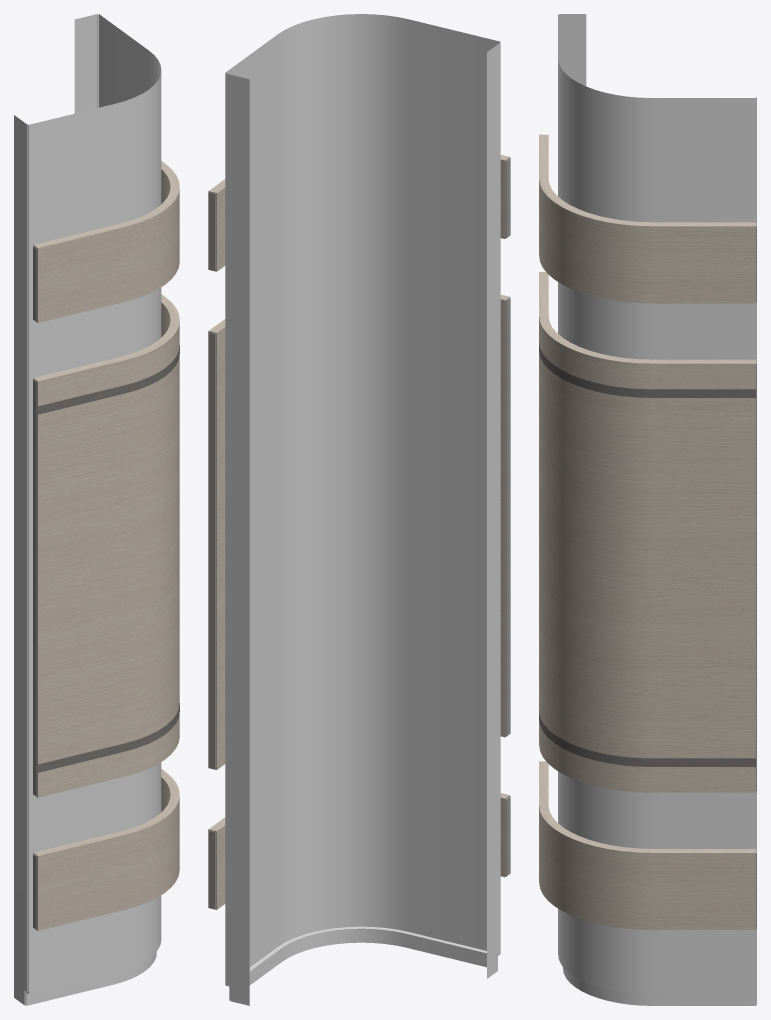
The model's file is MMo_W_001_c_2x2x10.fbx.
3 views of the same model, side by side, from view 1: azimuth 30°, elevation 25°; view 2: azimuth 150°, elevation 25°; view 3: azimuth 270°, elevation 25° (orthographic). The views are drawn at different scales.
Parts seen in each view (by area): view 1: MMo_W_001_c_2x2x10; view 2: MMo_W_001_c_2x2x10; view 3: MMo_W_001_c_2x2x10.
Part boxes in pixels (bbox=[...]): MMo_W_001_c_2x2x10: bbox=[14, 14, 179, 1005]; MMo_W_001_c_2x2x10: bbox=[208, 14, 510, 1005]; MMo_W_001_c_2x2x10: bbox=[539, 14, 756, 1005].
Size of the model in its own units: 2.3 by 10.6 by 2.3.
